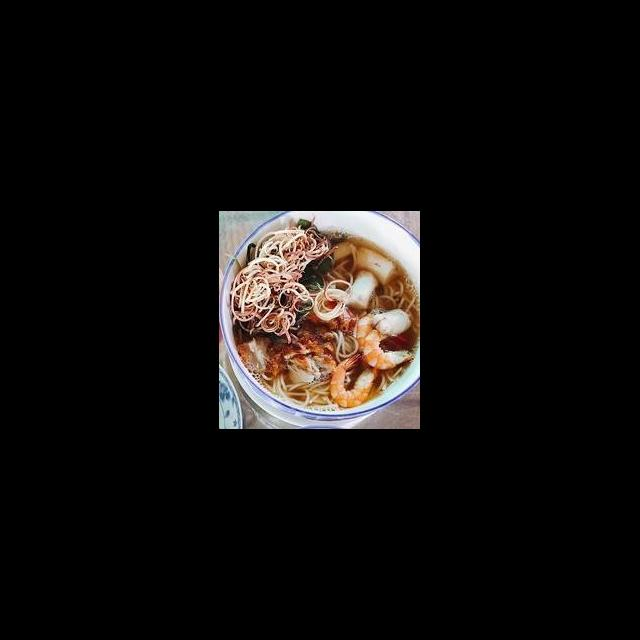bun: (262, 361, 338, 414)
ca: (352, 242, 399, 285), (342, 264, 380, 312), (368, 307, 414, 337)
thit heo quay: (232, 332, 274, 376)
tom: (328, 349, 382, 410), (362, 323, 418, 373), (354, 306, 396, 357)
